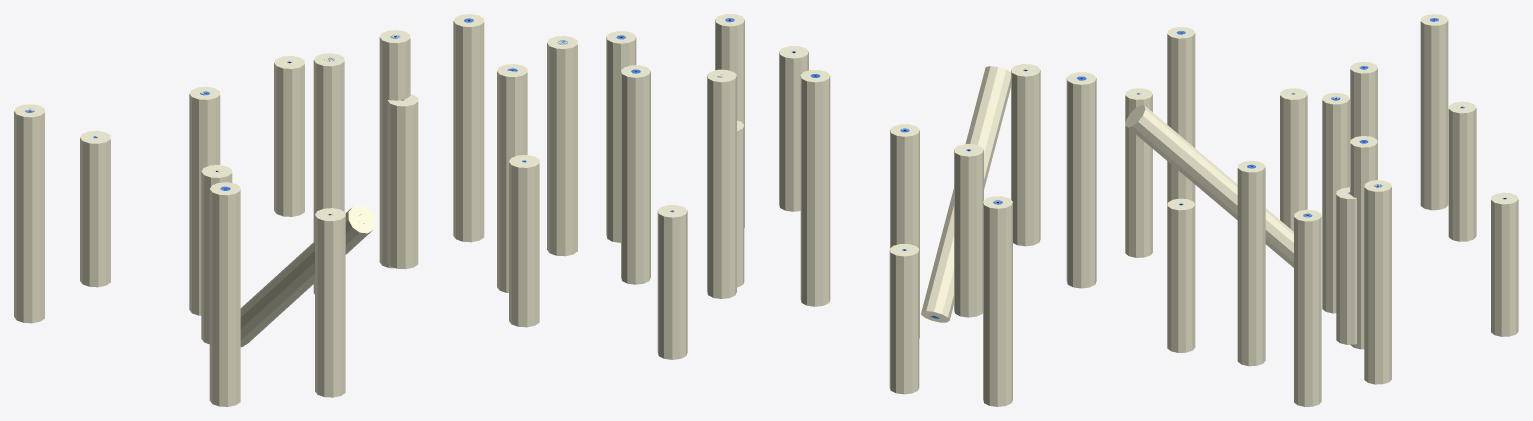
File: tile_100.glb
3 renders of one model, left to right at view 1: azimuth 30°, elevation 25°; view 2: azimuth 150°, elevation 25°; view 3: azimuth 270°, elevation 25°, orthographic. The views are drawn at different scales.
Size of the model in its own units: 4.5 by 2.16 by 3.5.
